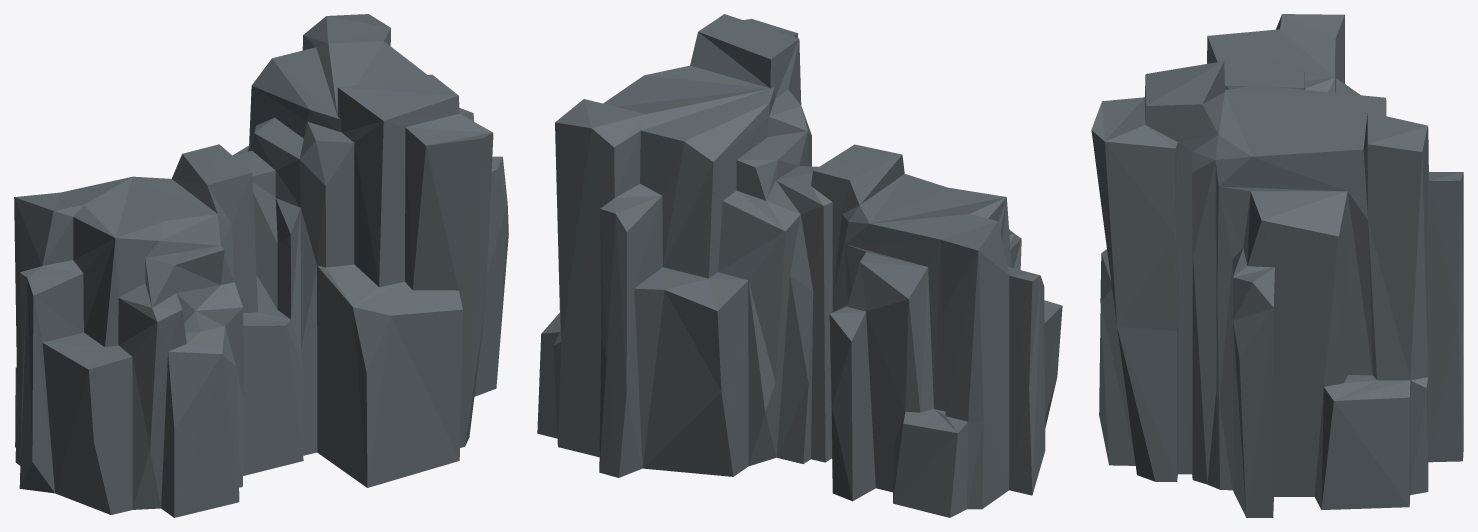
Rendered from Rock_Big_2_LOD1.fbx.
3 views of the same model, side by side, from view 1: azimuth 30°, elevation 25°; view 2: azimuth 150°, elevation 25°; view 3: azimuth 270°, elevation 25° (orthographic). The views are drawn at different scales.
Parts seen in each view (by area): view 1: polySurface10330; view 2: polySurface10330; view 3: polySurface10330.
Boxes of the visible parts, <box> form: polySurface10330: <box>14,14,508,517</box>; polySurface10330: <box>537,14,1062,517</box>; polySurface10330: <box>1091,14,1463,517</box>.
Size of the model in its own units: 1230 by 873 by 796.
